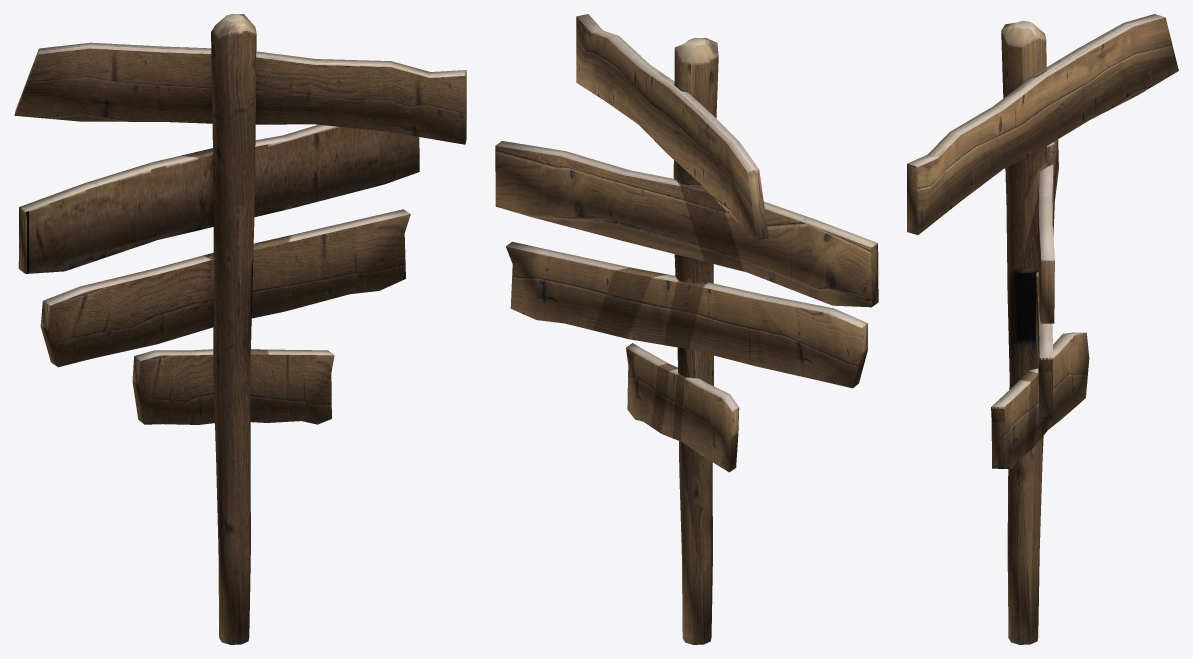
The model's file is signpost-transformed.glb.
3 renders of one model, left to right at view 1: azimuth 30°, elevation 25°; view 2: azimuth 150°, elevation 25°; view 3: azimuth 270°, elevation 25°, orthographic. The views are drawn at different scales.
Visible parts, largest first — view 1: 1 about.001, 2 token.001, 3 utility.001, SIGN, 4 faq.001; view 2: 2 token.001, 3 utility.001, 1 about.001, SIGN, 4 faq.001; view 3: 1 about.001, SIGN, 4 faq.001, 2 token.001, 3 utility.001.
Boxes of the visible parts, x1,y1,x2,y2 form: 1 about.001: [14, 42, 466, 144]; 2 token.001: [18, 124, 419, 273]; 3 utility.001: [40, 209, 410, 367]; SIGN: [211, 14, 256, 644]; 4 faq.001: [132, 349, 334, 424]; 2 token.001: [495, 141, 878, 307]; 3 utility.001: [506, 241, 867, 388]; 1 about.001: [576, 14, 768, 240]; SIGN: [673, 38, 718, 644]; 4 faq.001: [626, 343, 739, 472]; 1 about.001: [907, 14, 1178, 234]; SIGN: [1001, 21, 1046, 644]; 4 faq.001: [991, 332, 1089, 468]; 2 token.001: [1038, 139, 1058, 323]; 3 utility.001: [1036, 272, 1053, 418].
Bounding box in the file's own units: 2 × 3.02 × 1.21.
Materials: 1 (1 with a texture image).
